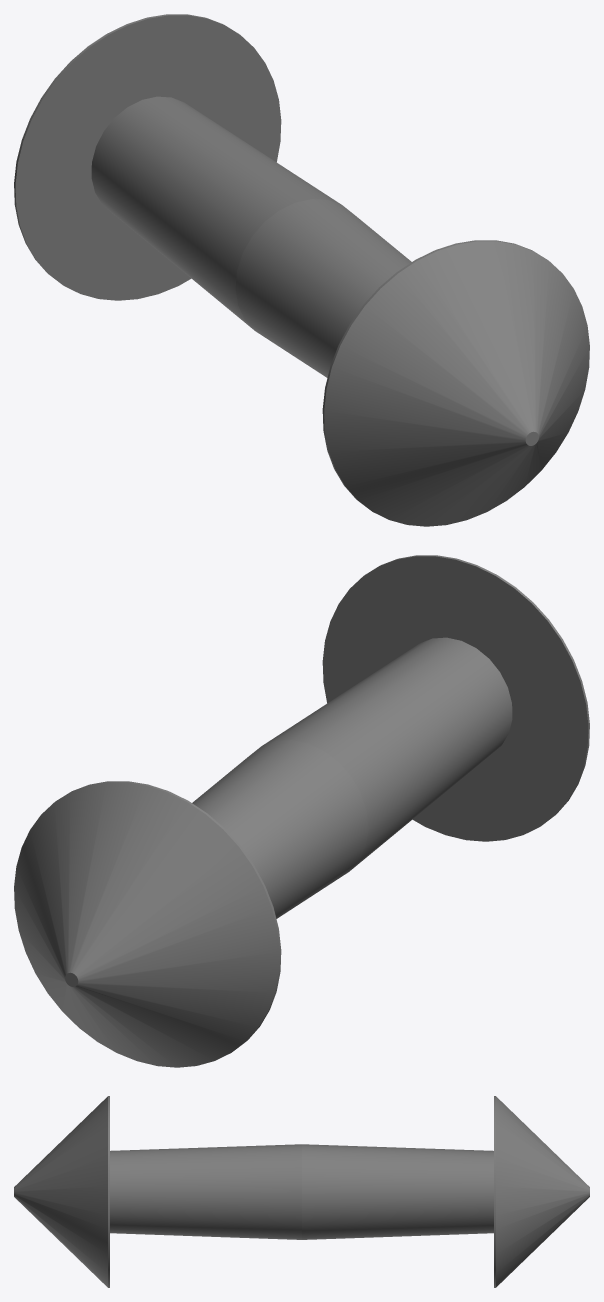
The model's file is arrowV.glb.
The picture shows the model from 3 angles, top to bottom: view 1: azimuth 30°, elevation 25°; view 2: azimuth 150°, elevation 25°; view 3: azimuth 270°, elevation 25°; orthographic projection. The views are drawn at different scales.
Visible parts, largest first — view 1: node_id5; view 2: node_id5; view 3: node_id5.
Part boxes in pixels (x1,y1,x2,y2): node_id5: [14, 14, 589, 526]; node_id5: [14, 555, 589, 1067]; node_id5: [14, 1096, 589, 1287].
Size of the model in its own units: 0.1705 by 0.1704 by 0.512.
Materials: 1 (1 with a texture image).
